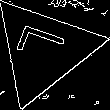L_E: (13, 26, 74, 73)
